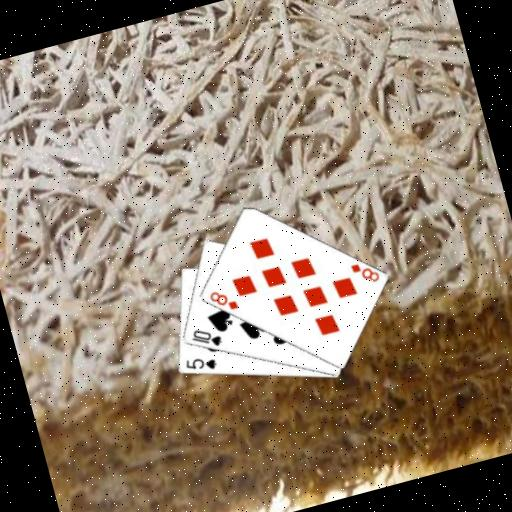10S: (186, 320, 224, 353)
5S: (181, 350, 219, 378)
8D: (204, 283, 240, 317), (346, 255, 382, 288)
